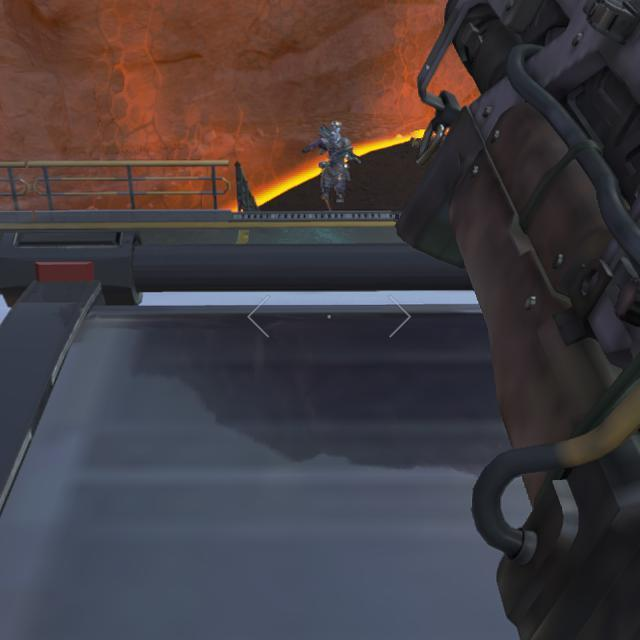avatar: (302, 119, 361, 209)
